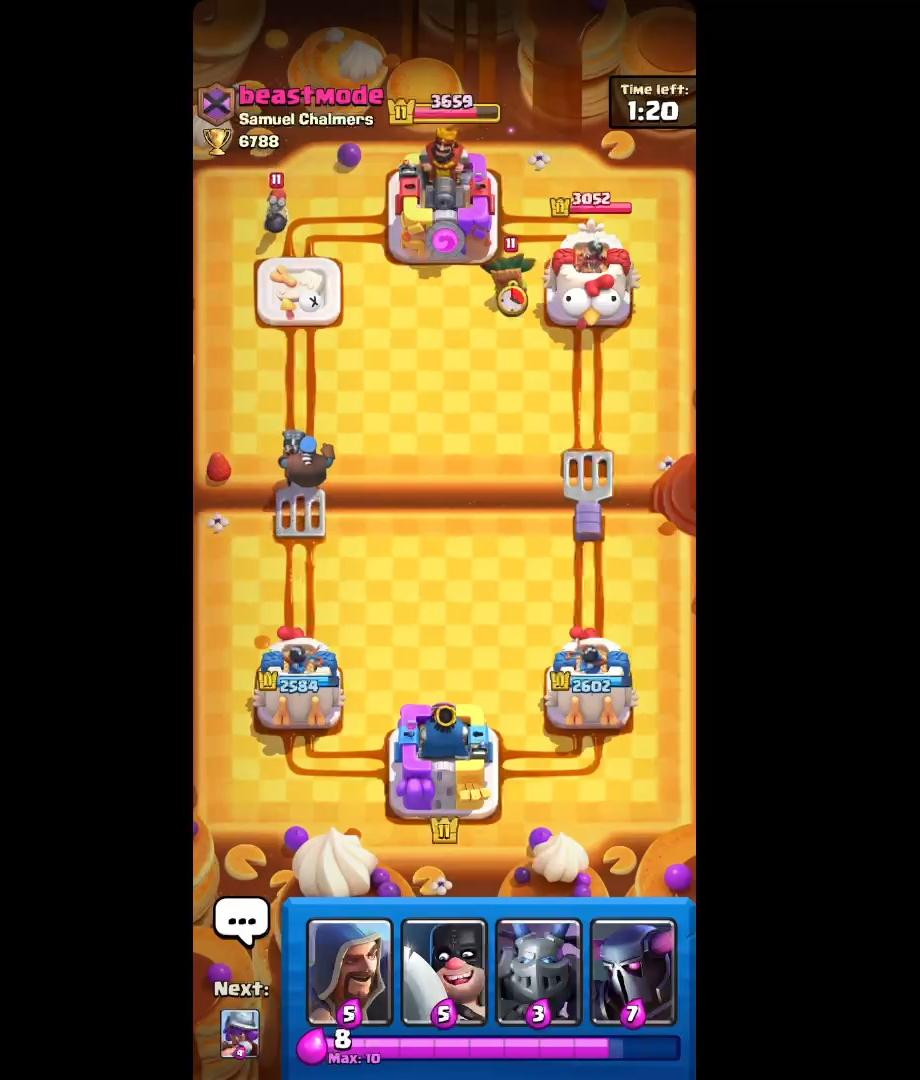Bomber: (262, 167, 297, 239)
Dart Goblin: (488, 237, 541, 316)
